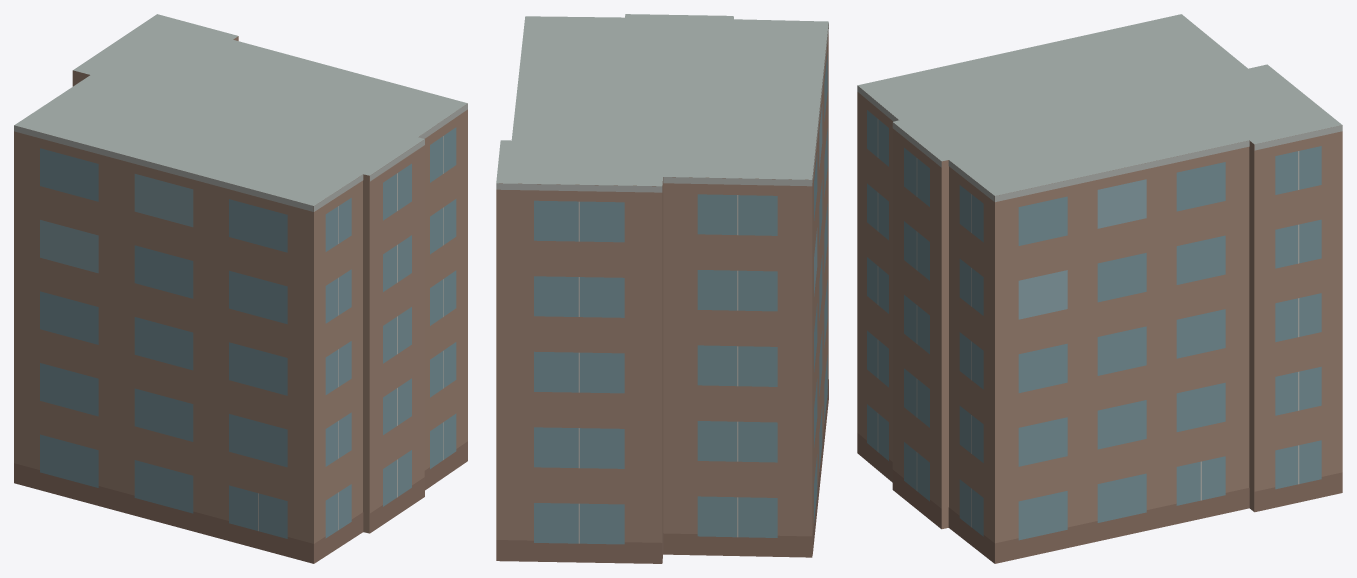
File: survey-upis-32659097.glb
3 views of the same model, side by side, from view 1: azimuth 30°, elevation 25°; view 2: azimuth 150°, elevation 25°; view 3: azimuth 270°, elevation 25° (orthographic). The views are drawn at different scales.
Visible parts, largest first — view 1: survey-upis-32659097.tmp; view 2: survey-upis-32659097.tmp; view 3: survey-upis-32659097.tmp.
Boxes of the visible parts, <box> form: survey-upis-32659097.tmp: <box>14,14,467,563</box>; survey-upis-32659097.tmp: <box>496,14,828,563</box>; survey-upis-32659097.tmp: <box>857,14,1342,563</box>.
Bounding box in the file's own units: 15.29 × 14.4 × 17.22.
